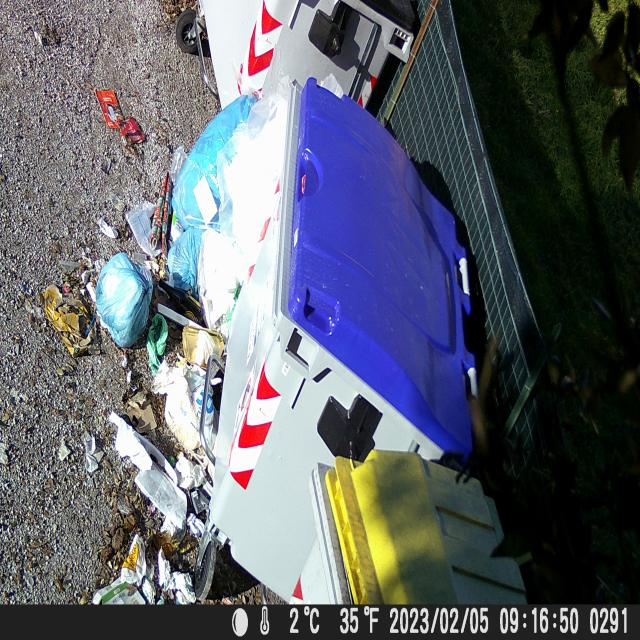sampah-detection: (168, 87, 250, 302), (100, 400, 192, 548), (150, 322, 220, 458), (85, 534, 199, 606), (92, 242, 155, 348), (40, 267, 93, 365), (92, 80, 149, 158)
